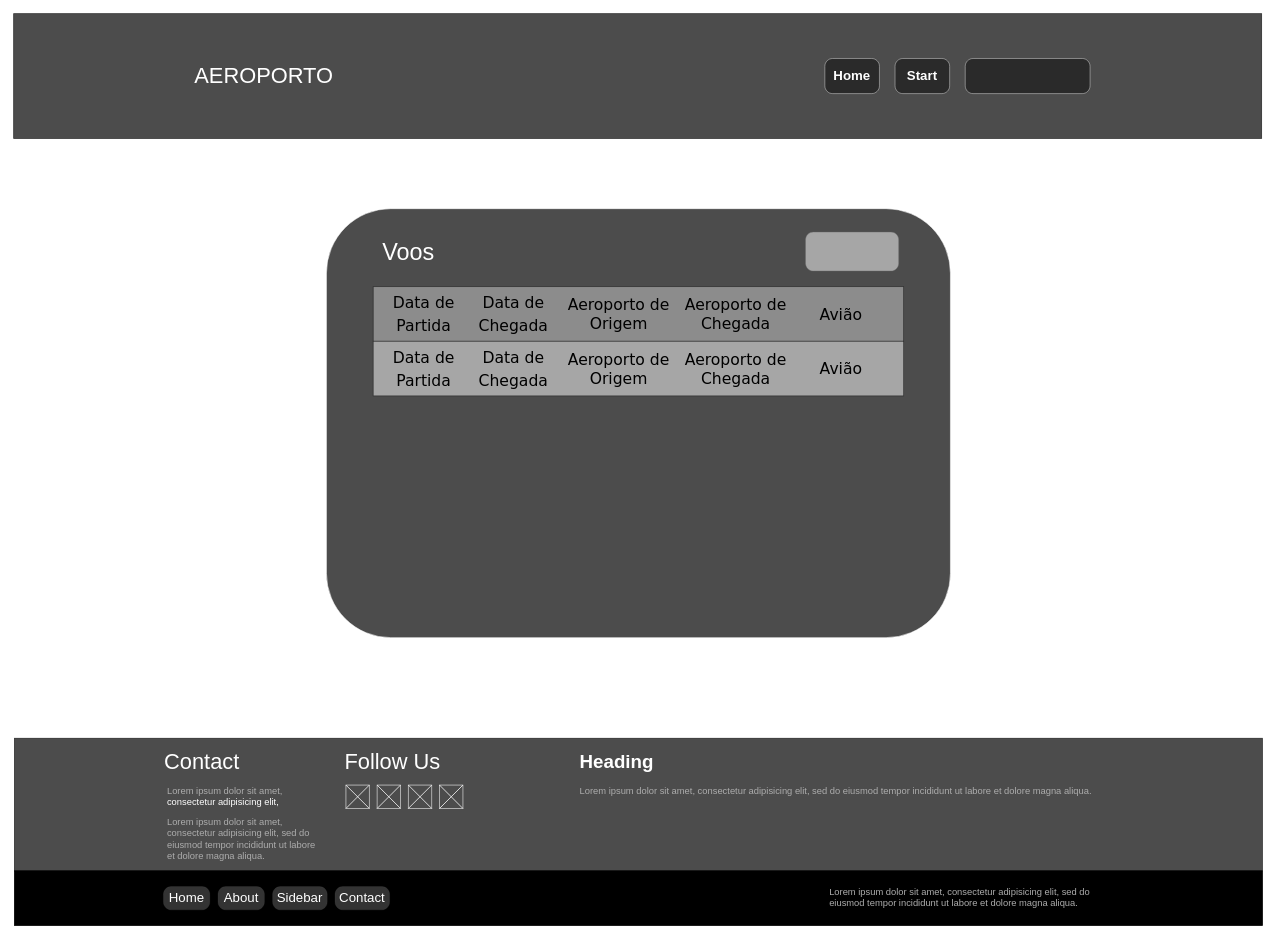
Image size: 1276x939. Some labels were removed from this diagram. The box of each missing label's shape, as (x1, y1, x2, y2) in pixels:
Adicionar Voo: (805, 231, 899, 271)
Terminar Sessão: (964, 58, 1090, 94)
